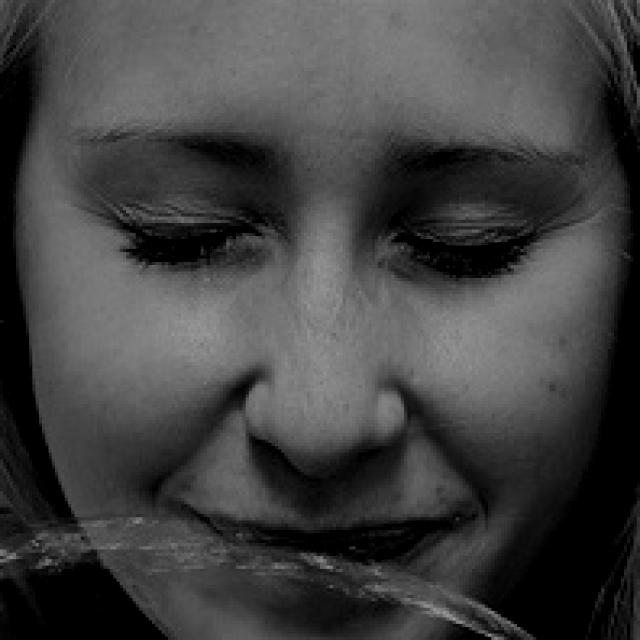real: (40, 7, 592, 640), (100, 156, 581, 293)
